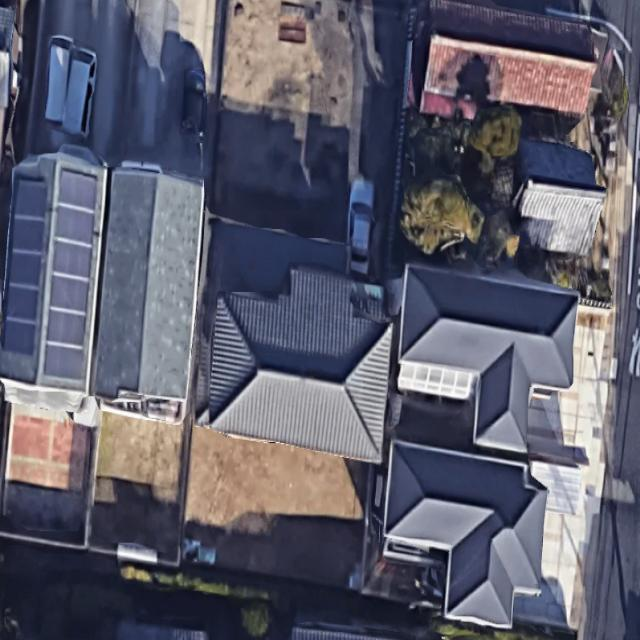Batiment: (210, 266, 392, 462), (399, 264, 579, 454), (384, 440, 546, 628), (0, 151, 108, 389), (94, 166, 204, 398), (412, 0, 596, 118), (514, 139, 605, 256)
